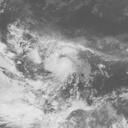cyclone: (31, 36, 93, 92)
